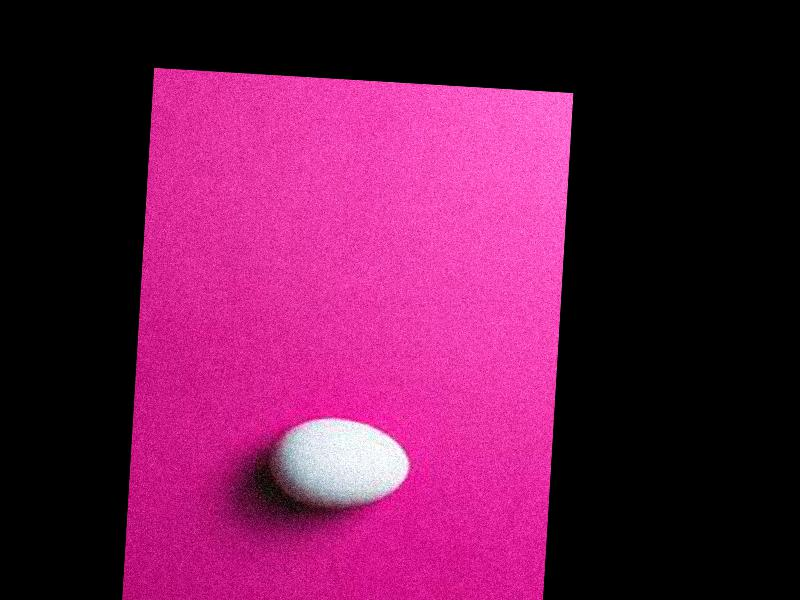Eggs: (268, 414, 412, 511)
